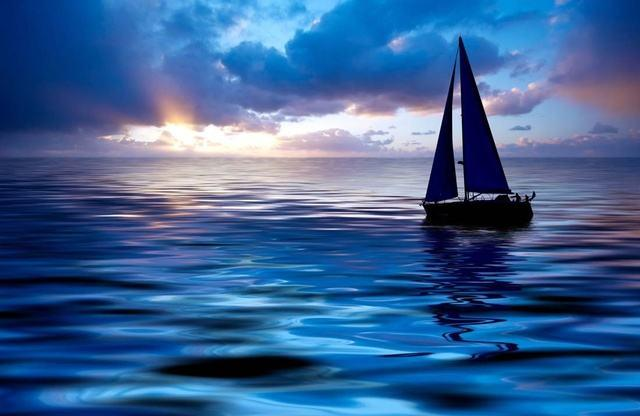fanchuan: (421, 33, 536, 229)
